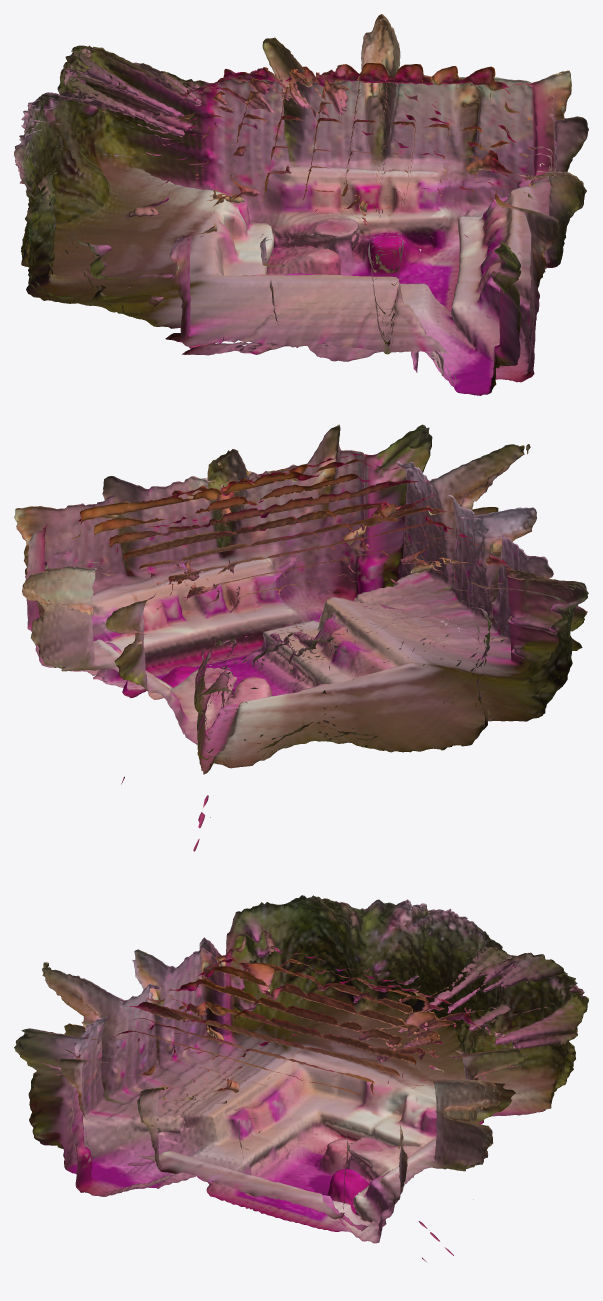
Rendered from twinkle-butterfly-patio-1-1004_collider.glb.
The picture shows the model from 3 angles, top to bottom: view 1: azimuth 30°, elevation 25°; view 2: azimuth 150°, elevation 25°; view 3: azimuth 270°, elevation 25°; orthographic projection. The views are drawn at different scales.
Visible parts, largest first — view 1: world; view 2: world; view 3: world.
Part boxes in pixels (<box>): world: <box>14,14,588,395</box>; world: <box>14,424,588,851</box>; world: <box>14,895,588,1261</box>.
Size of the model in its own units: 9.64 by 4.92 by 9.86.
